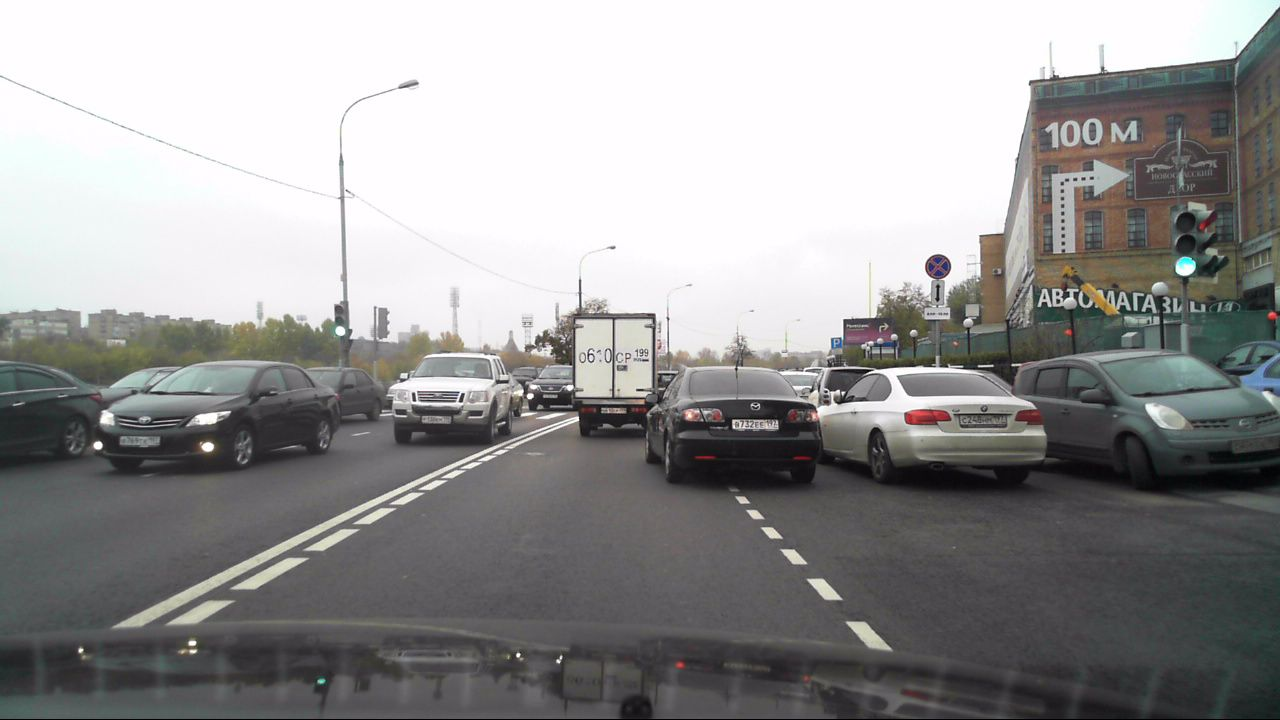No Parking: (924, 252, 952, 280)
